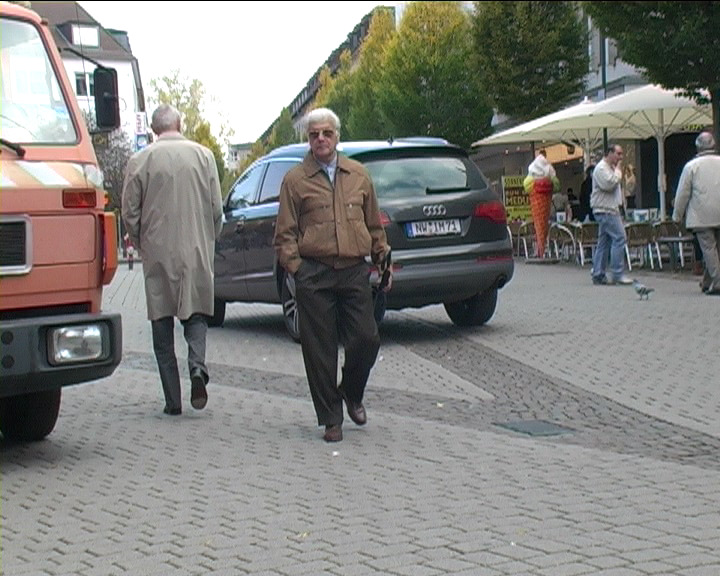undeflect: (133, 105, 219, 185), (291, 116, 370, 189)
